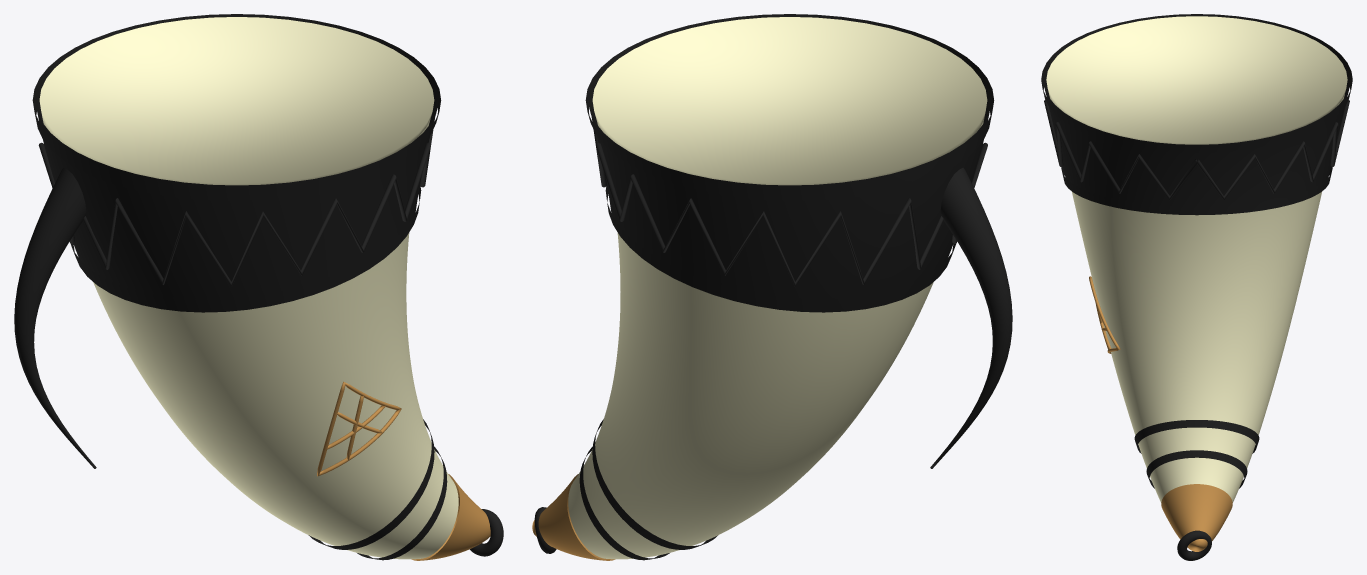
Rendered from horn.glb.
The picture shows the model from 3 angles, left to right: view 1: azimuth 30°, elevation 25°; view 2: azimuth 150°, elevation 25°; view 3: azimuth 270°, elevation 25°; orthographic projection. The views are drawn at different scales.
Visible parts, largest first — view 1: HornBody; view 2: HornBody; view 3: HornBody.
Boxes of the visible parts, x1,y1,x2,y2 form: HornBody: (14,14,503,560); HornBody: (532,14,1012,560); HornBody: (1041,14,1352,560).
Size of the model in its own units: 4.06 by 4.15 by 3.
Materials: 1 (1 with a texture image).
